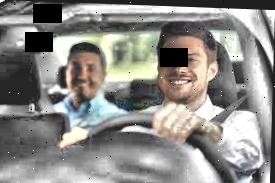seatbelt: (181, 87, 254, 148), (40, 83, 61, 114)
